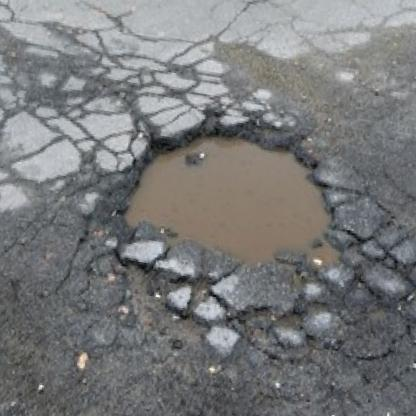pothole: (110, 104, 373, 293)
